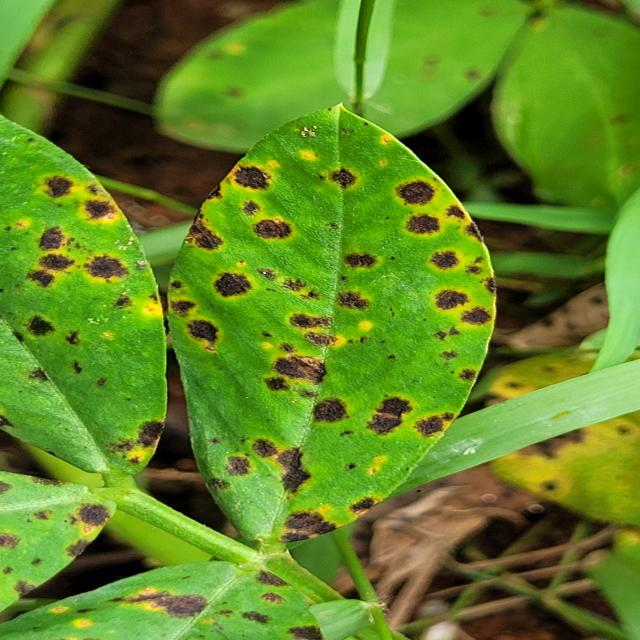Ground nut_tikka leaf spot: (158, 107, 497, 558)
